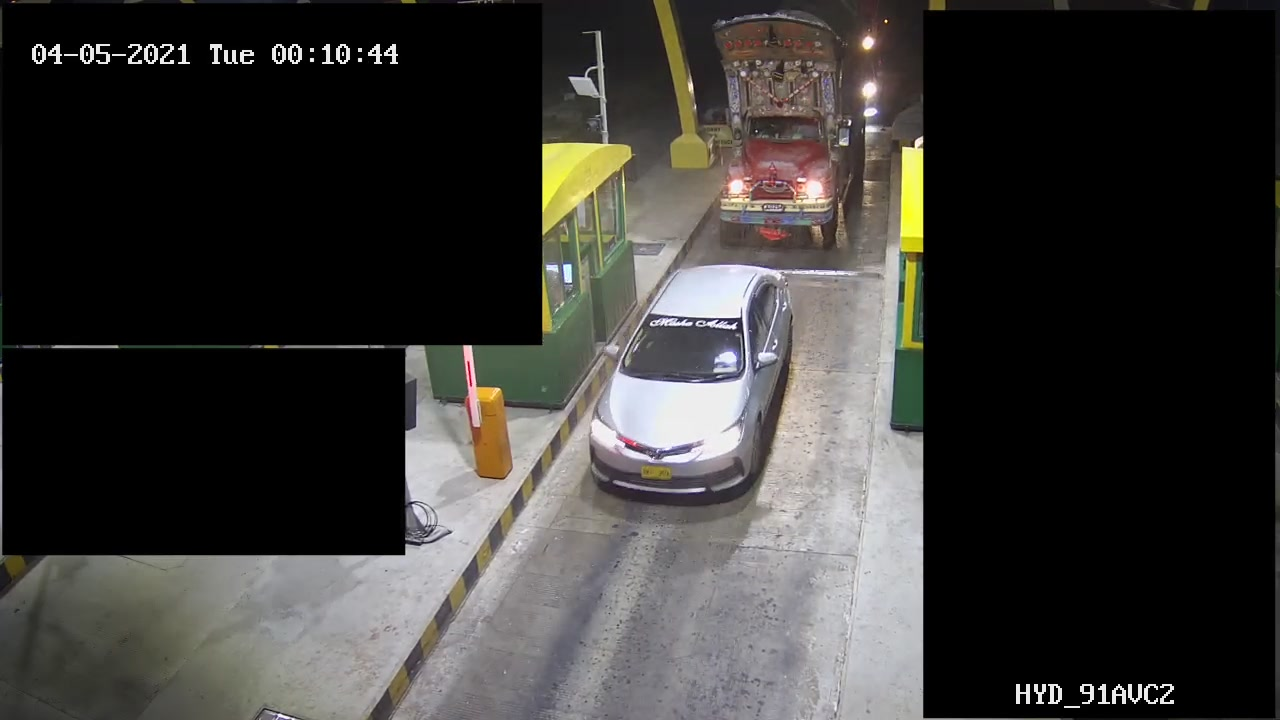F1: (568, 259, 807, 512)
F5: (716, 5, 858, 247)
